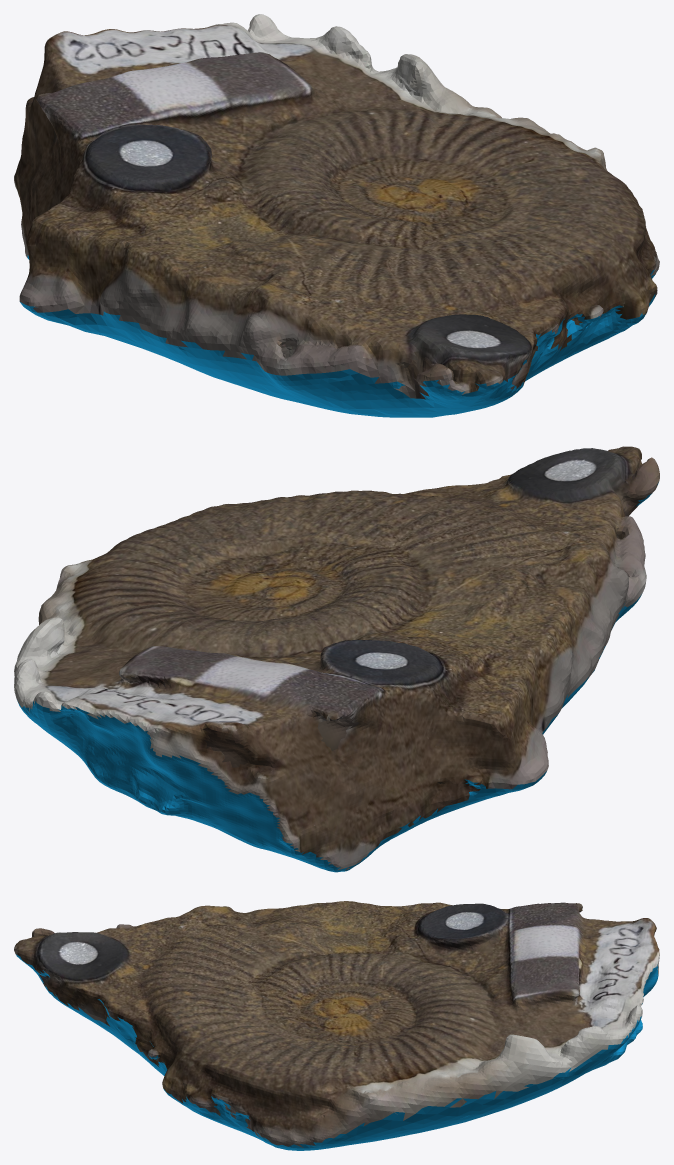
The model's file is PUC-002.glb.
3 renders of one model, top to bottom at view 1: azimuth 30°, elevation 25°; view 2: azimuth 150°, elevation 25°; view 3: azimuth 270°, elevation 25°, orthographic. The views are drawn at different scales.
Visible parts, largest first — view 1: PuC002V; view 2: PuC002V; view 3: PuC002V.
Boxes of the visible parts, x1,y1,x2,y2 form: PuC002V: [14, 14, 659, 417]; PuC002V: [14, 446, 659, 872]; PuC002V: [14, 901, 659, 1150].
Size of the model in its own units: 34.37 by 12.04 by 47.81.
Materials: 1 (1 with a texture image).
